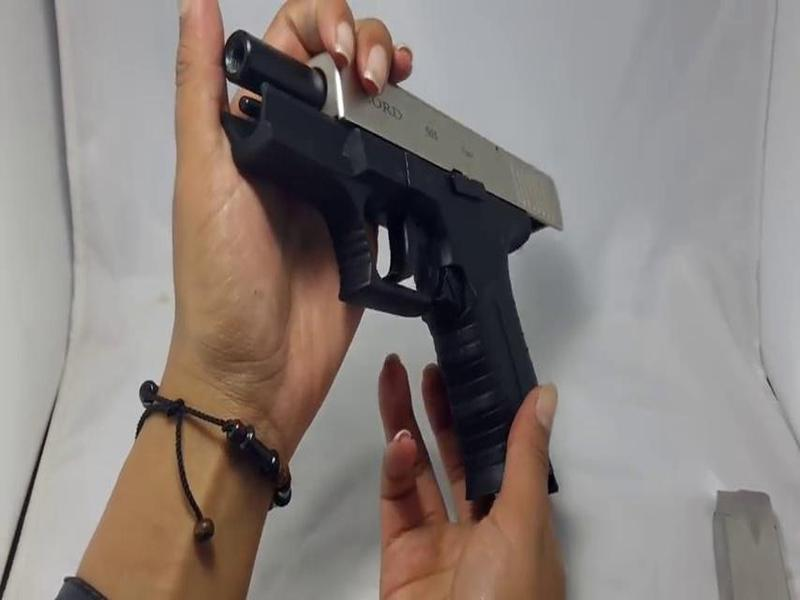Pistola: (148, 15, 584, 484)
